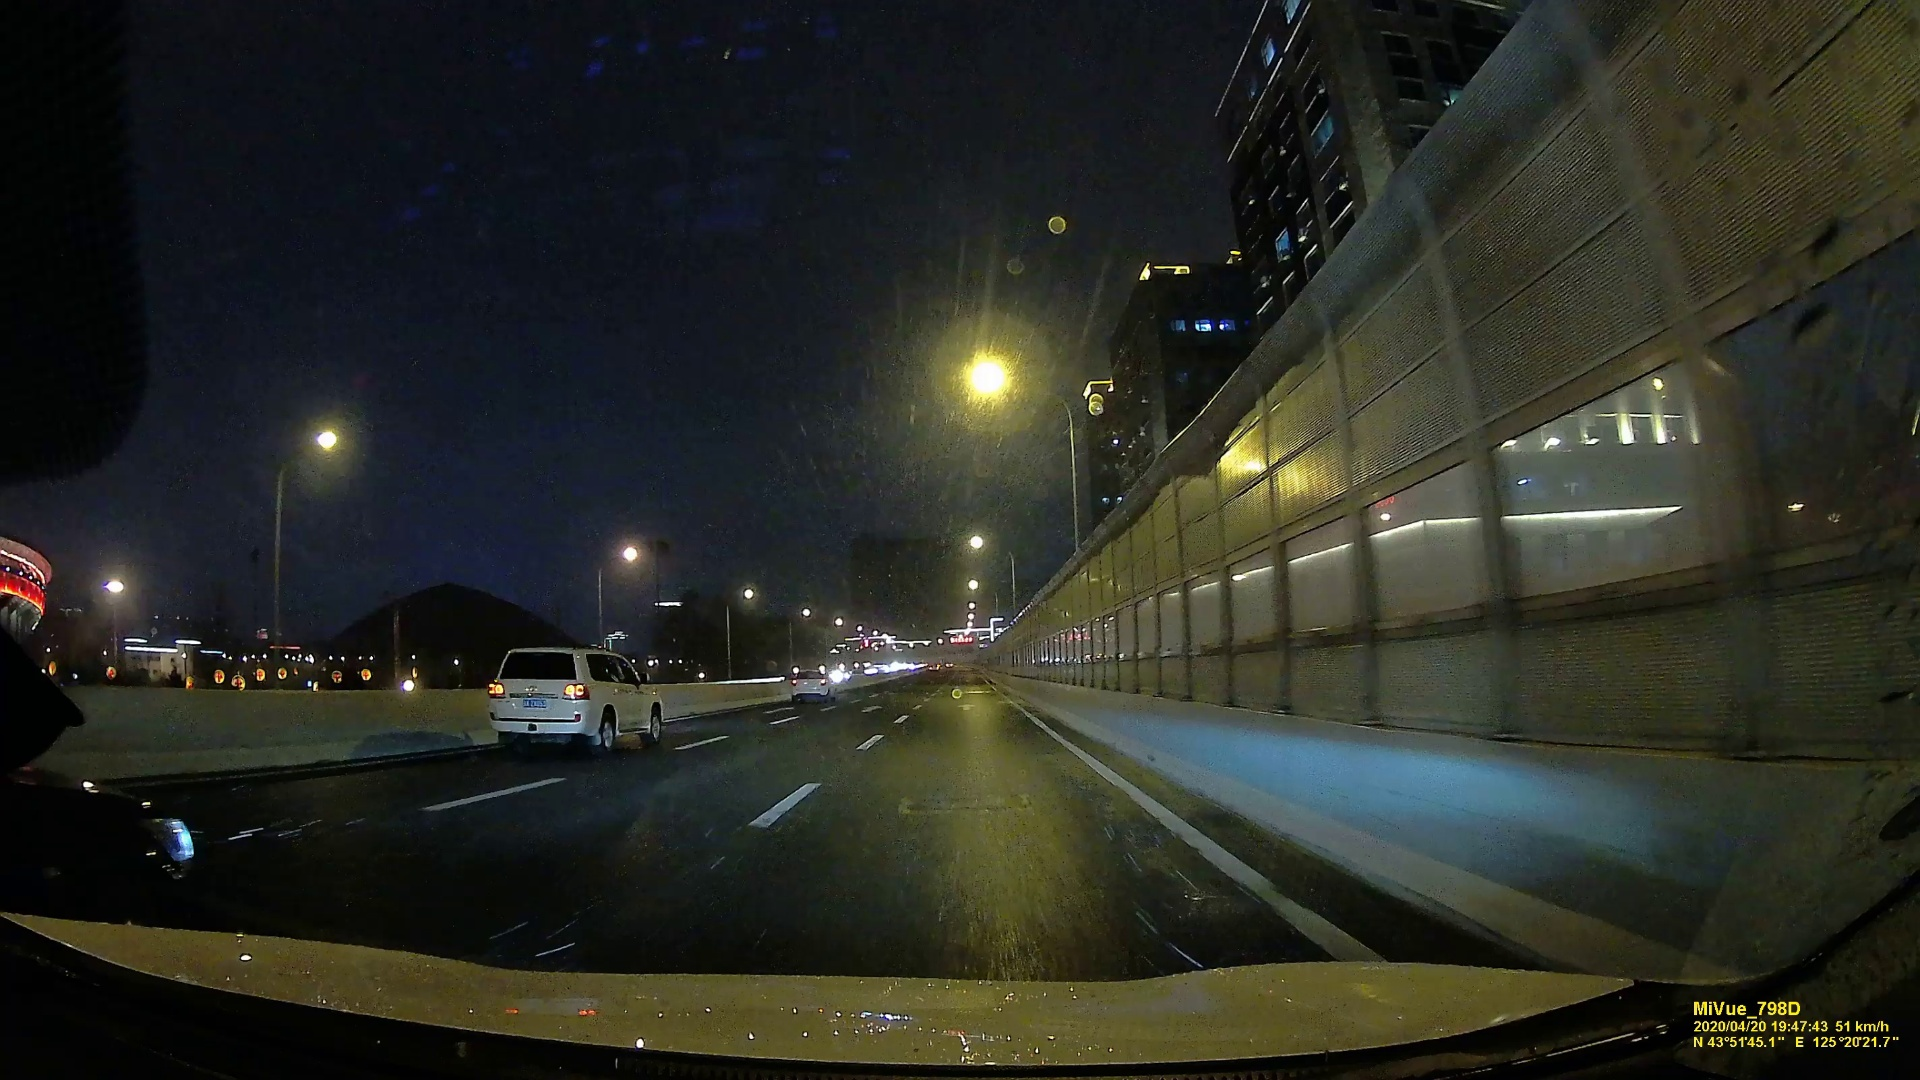vehicle: (483, 642, 666, 752), (785, 665, 836, 705)
